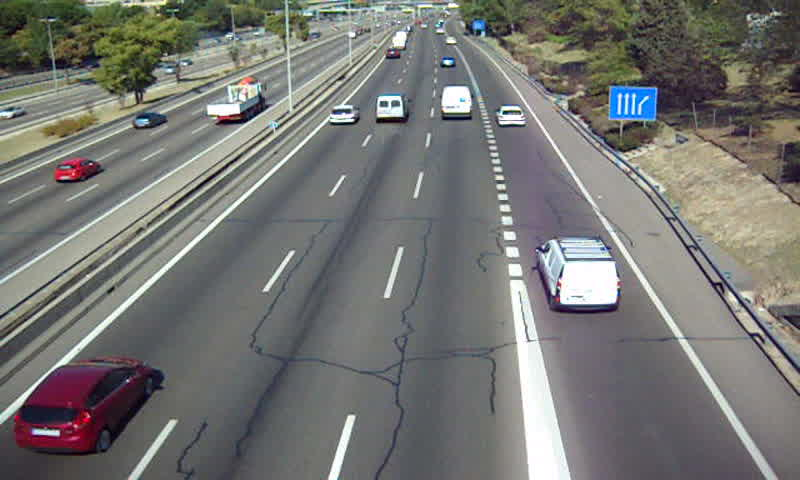car: (15, 355, 154, 454), (327, 105, 360, 128), (494, 104, 524, 126)
van: (535, 237, 622, 311), (441, 86, 474, 120), (375, 92, 412, 120)
